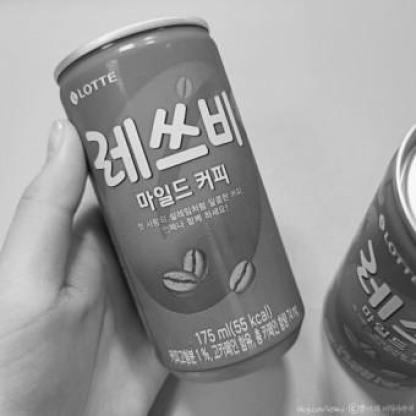alumunium_can: (46, 12, 311, 382)
